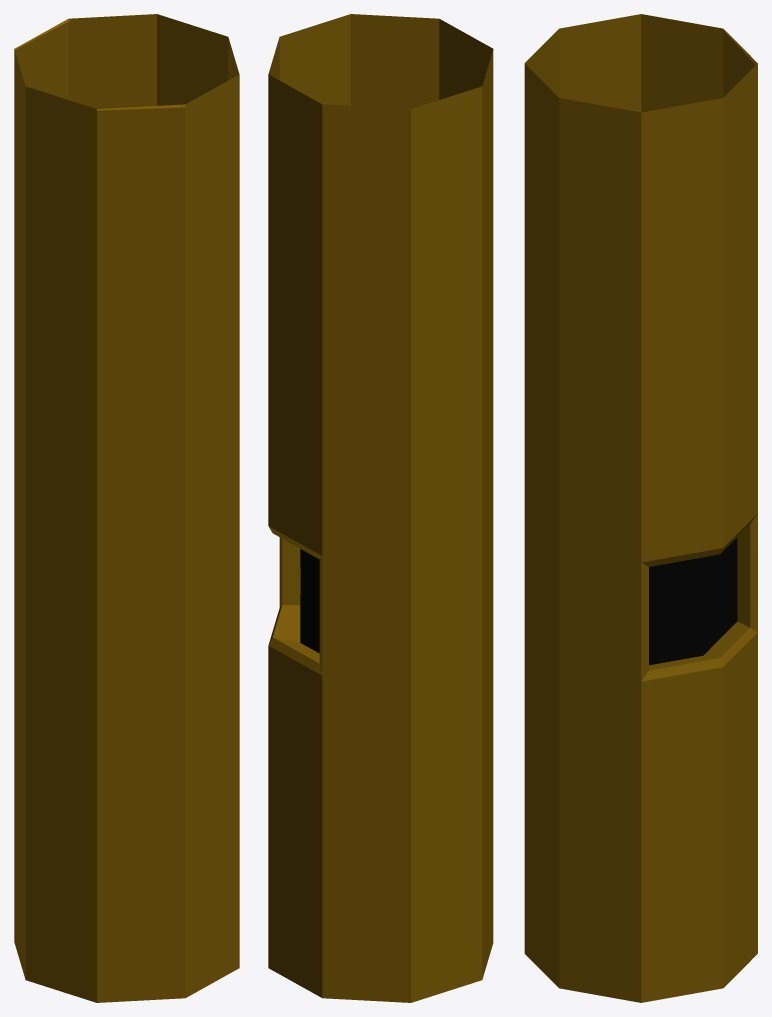
File: Damaged Pipe.fbx
3 views of the same model, side by side, from view 1: azimuth 30°, elevation 25°; view 2: azimuth 150°, elevation 25°; view 3: azimuth 270°, elevation 25° (orthographic).
Visible parts, largest first — view 1: Sink_PIpe_Damaged; view 2: Sink_PIpe_Damaged; view 3: Sink_PIpe_Damaged.
Boxes of the visible parts, x1,y1,x2,y2 form: Sink_PIpe_Damaged: (14, 14, 239, 1002); Sink_PIpe_Damaged: (268, 14, 493, 1002); Sink_PIpe_Damaged: (524, 14, 757, 1002).
Bounding box in the file's own units: 0.9583 × 4.04 × 0.965.
